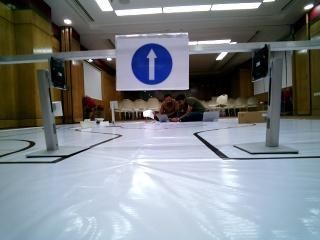straight: (120, 35, 192, 92)
